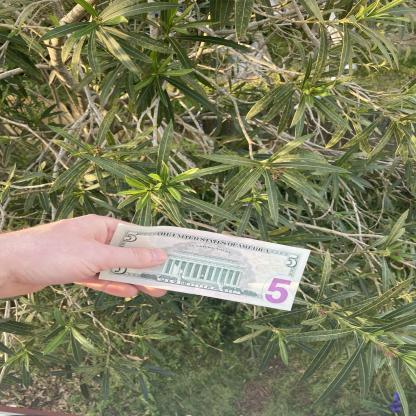five-back: (98, 223, 311, 311)
